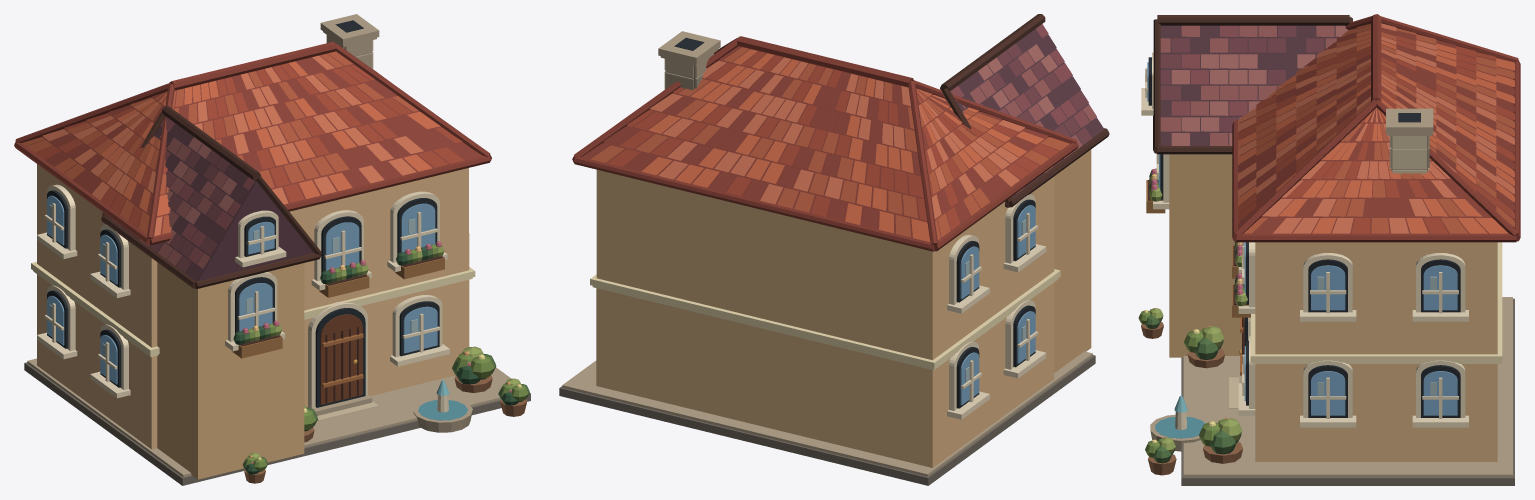
Rendered from moradia-nivel-7.glb.
3 views of the same model, side by side, from view 1: azimuth 30°, elevation 25°; view 2: azimuth 150°, elevation 25°; view 3: azimuth 270°, elevation 25° (orthographic). The views are drawn at different scales.
Visible parts, largest first — view 1: Moradia 07 #deb788, Moradia 07 #d5ad7c, Moradia 07 #853e33, Moradia 07 #e6d7ba, Moradia 07 #b4a38a, Moradia 07 #9b4735, Moradia 07 #c06b4f, Moradia 07 #567185, Moradia 07 #a8563c, Moradia 07 #593b44, Moradia 07 #252c32, Moradia 07 #4c3028 (+16 smaller); view 2: Moradia 07 #deb788, Moradia 07 #853e33, Moradia 07 #c06b4f, Moradia 07 #bf6243, Moradia 07 #a8563c, Moradia 07 #9b4735, Moradia 07 #d5ad7c, Moradia 07 #b4a38a, Moradia 07 #e6d7ba, Moradia 07 #746c62, Moradia 07 #eadbb2, Moradia 07 #593b44 (+7 smaller); view 3: Moradia 07 #deb788, Moradia 07 #853e33, Moradia 07 #b4a38a, Moradia 07 #d5ad7c, Moradia 07 #e6d7ba, Moradia 07 #c06b4f, Moradia 07 #bf6243, Moradia 07 #a8563c, Moradia 07 #9b4735, Moradia 07 #593b44, Moradia 07 #567185, Moradia 07 #4c3028 (+15 smaller).
Part boxes in pixels (x1,y1,x2,y2): Moradia 07 #deb788: (37,164,469,449); Moradia 07 #d5ad7c: (157,262,304,479); Moradia 07 #853e33: (14,41,491,245); Moradia 07 #e6d7ba: (37,184,449,412); Moradia 07 #b4a38a: (27,14,510,477); Moradia 07 #9b4735: (36,63,464,227); Moradia 07 #c06b4f: (42,55,423,236); Moradia 07 #567185: (47,195,437,384); Moradia 07 #a8563c: (22,51,418,234); Moradia 07 #593b44: (107,123,313,280); Moradia 07 #252c32: (47,20,439,407); Moradia 07 #4c3028: (101,106,443,403); Moradia 07 #deb788: (596,169,1054,467); Moradia 07 #853e33: (572,36,1078,251); Moradia 07 #c06b4f: (649,57,1025,218); Moradia 07 #bf6243: (641,49,1043,241); Moradia 07 #a8563c: (590,47,1069,240); Moradia 07 #9b4735: (607,51,1059,229); Moradia 07 #d5ad7c: (1054,149,1091,372); Moradia 07 #b4a38a: (562,31,1092,476); Moradia 07 #e6d7ba: (947,194,1046,419); Moradia 07 #746c62: (559,66,1095,485); Moradia 07 #eadbb2: (590,269,1060,370); Moradia 07 #593b44: (945,29,1104,196); Moradia 07 #deb788: (1255,242,1497,461); Moradia 07 #853e33: (1232,14,1520,242); Moradia 07 #b4a38a: (1150,108,1512,477); Moradia 07 #d5ad7c: (1169,154,1241,357); Moradia 07 #e6d7ba: (1141,52,1468,429); Moradia 07 #c06b4f: (1238,23,1514,233); Moradia 07 #bf6243: (1238,29,1514,233); Moradia 07 #a8563c: (1244,23,1514,233); Moradia 07 #9b4735: (1238,35,1514,233); Moradia 07 #593b44: (1160,25,1339,145); Moradia 07 #567185: (1147,62,1457,415); Moradia 07 #4c3028: (1148,15,1352,363).
Bounding box in the file's own units: 7.61 × 6.43 × 6.65.
